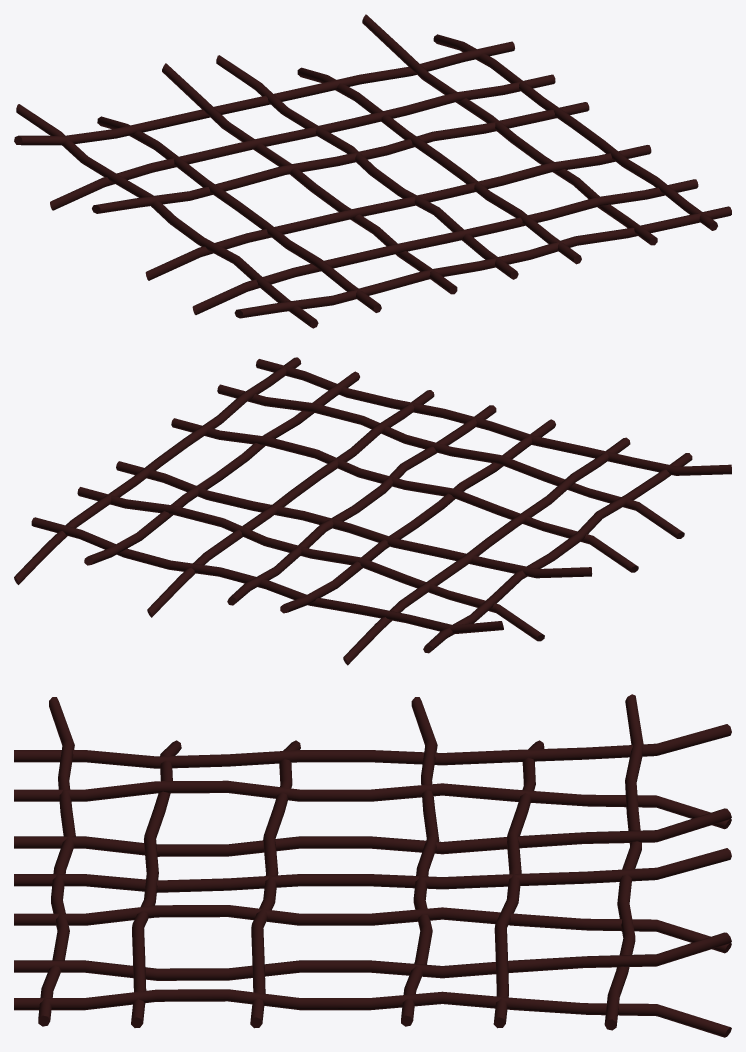
The model's file is P_GrillePourMurCassé.fbx.
3 views of the same model, one above another, from view 1: azimuth 30°, elevation 25°; view 2: azimuth 150°, elevation 25°; view 3: azimuth 270°, elevation 25° (orthographic). The views are drawn at different scales.
Visible parts, largest first — view 1: P_GrillePourMurCassé; view 2: P_GrillePourMurCassé; view 3: P_GrillePourMurCassé.
Boxes of the visible parts, <box> form: P_GrillePourMurCassé: <box>14,14,731,328</box>; P_GrillePourMurCassé: <box>14,357,731,665</box>; P_GrillePourMurCassé: <box>14,694,731,1037</box>.
Size of the model in its own units: 291 by 26.39 by 287.
